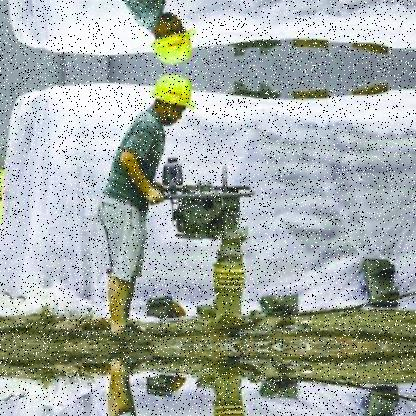Helmet: (140, 0, 197, 69), (150, 73, 193, 129)
